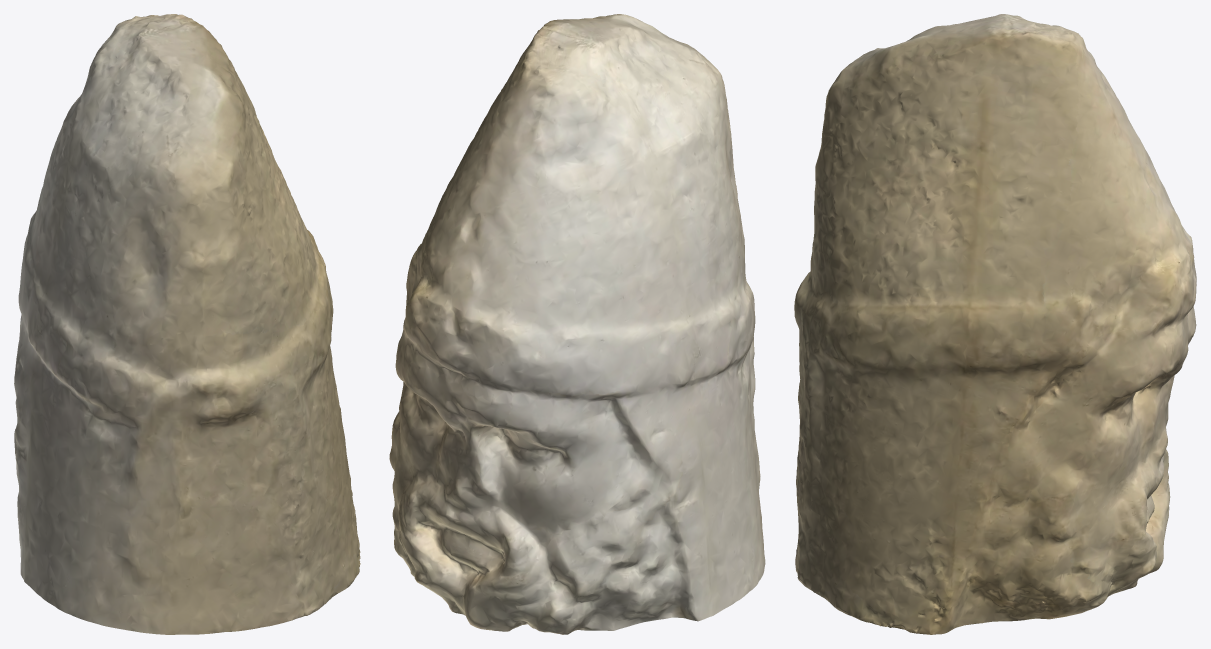
The model's file is nemrut-head.glb.
3 renders of one model, left to right at view 1: azimuth 30°, elevation 25°; view 2: azimuth 150°, elevation 25°; view 3: azimuth 270°, elevation 25°, orthographic. The views are drawn at different scales.
Visible parts, largest first — view 1: Object_2; view 2: Object_2; view 3: Object_2.
Boxes of the visible parts, x1=… form: Object_2: x1=14, y1=14, x2=360, y2=634; Object_2: x1=389, y1=14, x2=765, y2=634; Object_2: x1=794, y1=14, x2=1196, y2=634.
Size of the model in its own units: 0.1431 by 0.2429 by 0.1644.
1 material, 1 textured.
